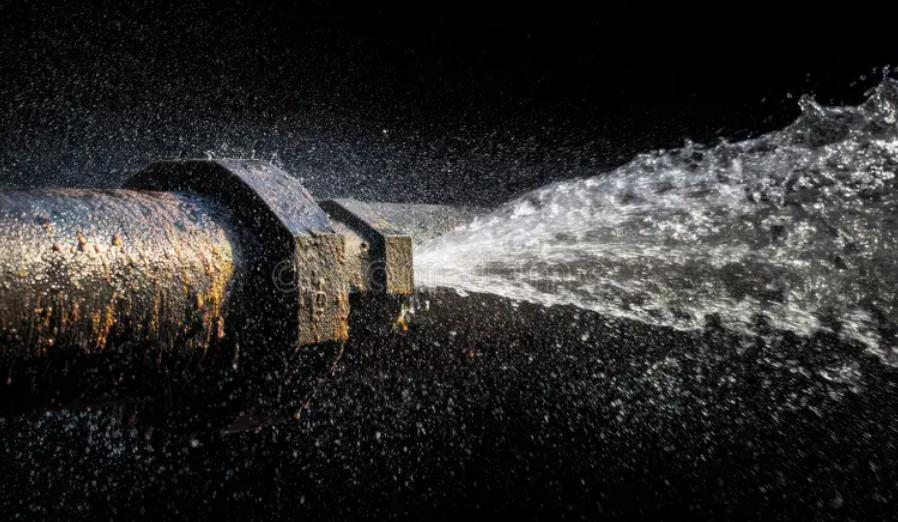pipe burst: (400, 79, 898, 351)
